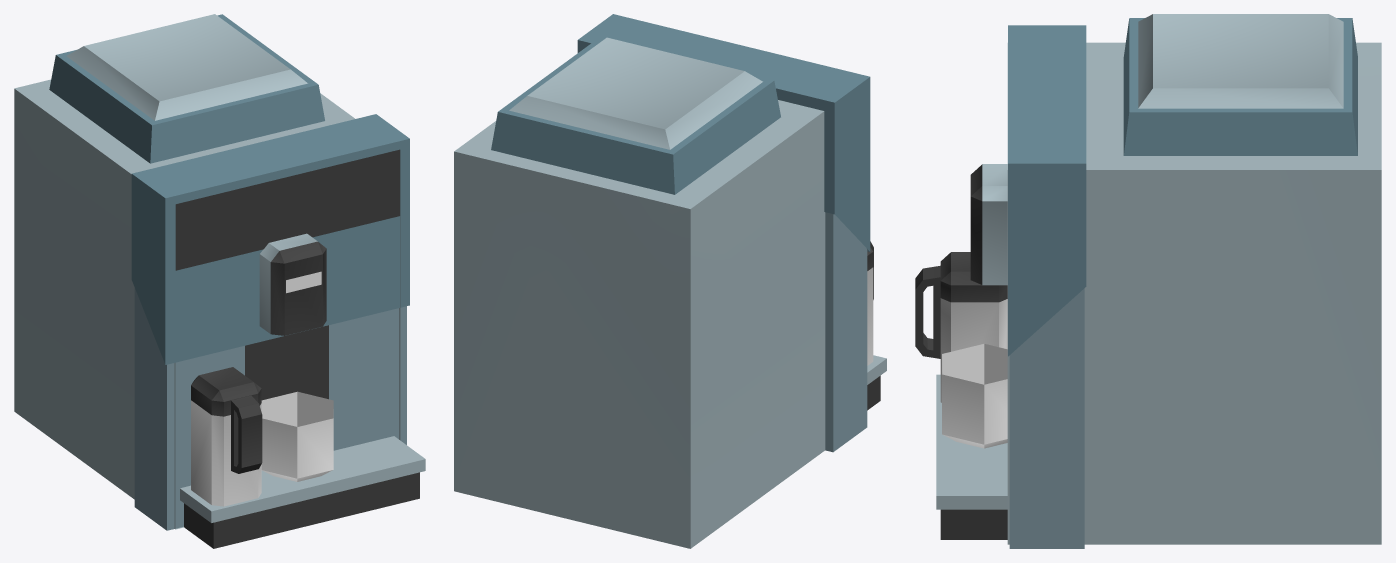
The model's file is electronics_005.glb.
The picture shows the model from 3 angles, left to right: view 1: azimuth 30°, elevation 25°; view 2: azimuth 150°, elevation 25°; view 3: azimuth 270°, elevation 25°; orthographic projection. The views are drawn at different scales.
Parts seen in each view (by area): view 1: electronics_005; view 2: electronics_005; view 3: electronics_005.
Boxes of the visible parts, <box> form: electronics_005: <box>14,14,425,548</box>; electronics_005: <box>454,14,886,548</box>; electronics_005: <box>915,14,1381,548</box>.
Bounding box in the file's own units: 0.1644 × 0.2386 × 0.2341.
Materials: 1 (1 with a texture image).
